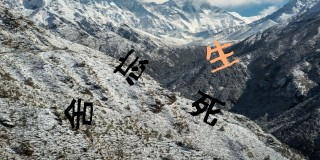忘: (113, 49, 148, 86)
死: (189, 89, 226, 127)
生: (205, 39, 240, 73)
舍: (65, 98, 93, 131)
